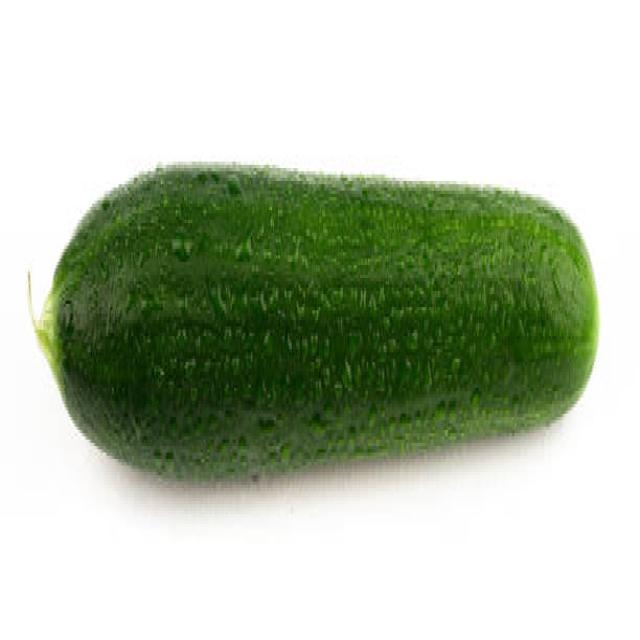cucumber: (47, 158, 599, 478)
